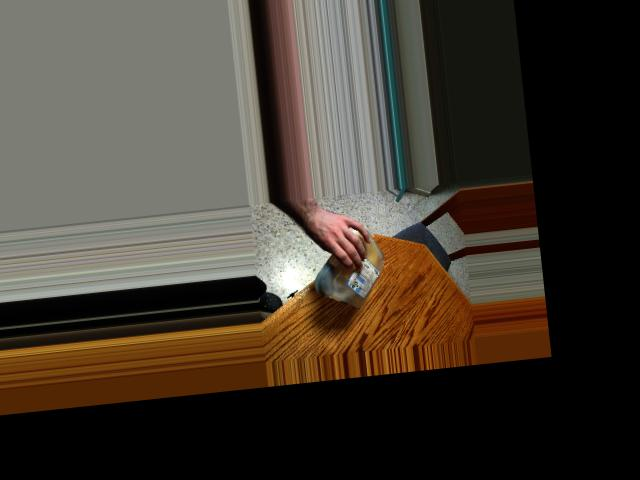cheese: (309, 217, 391, 314)
